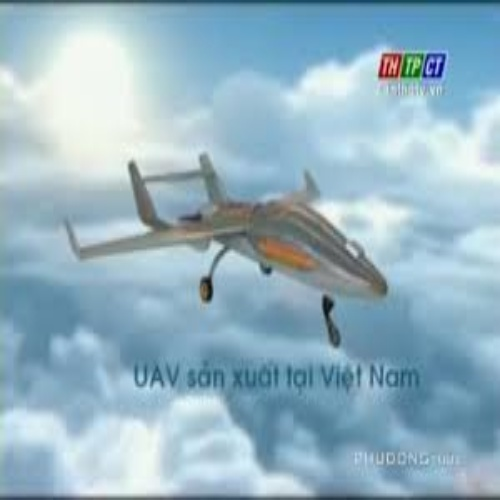uav: (62, 151, 391, 347)
